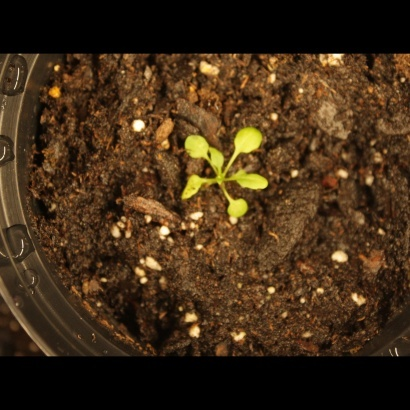leaf: (232, 165, 277, 196), (177, 128, 212, 162), (230, 123, 266, 156), (177, 174, 207, 204), (226, 191, 253, 222), (207, 147, 230, 173)
